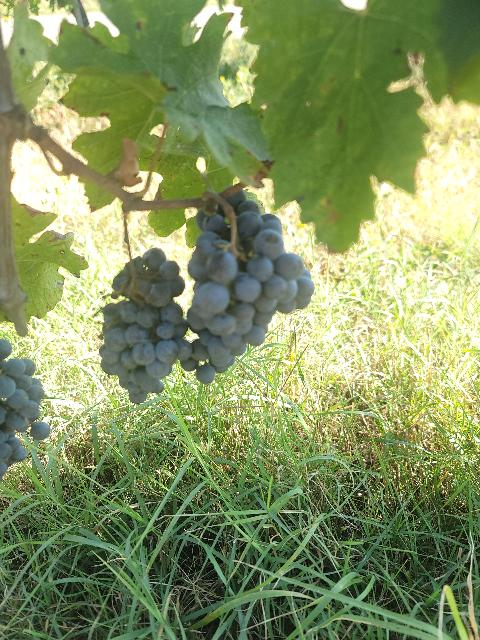grapes: (188, 191, 314, 381), (100, 248, 196, 404)
